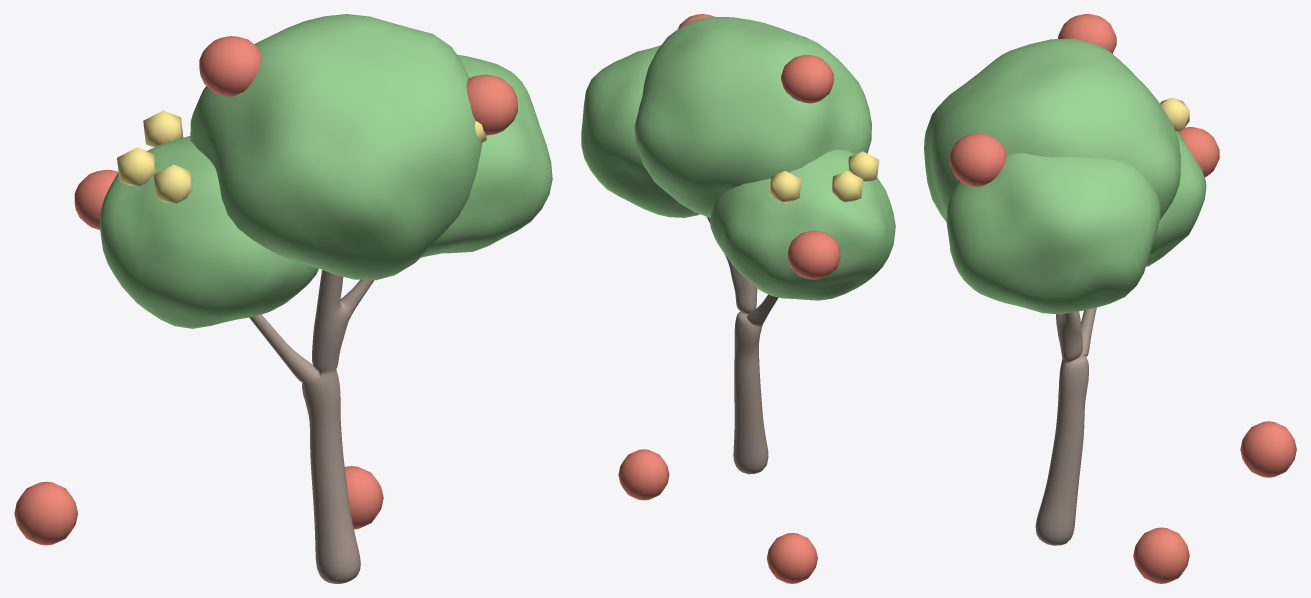
Rendered from tree_sapling_0.glb.
The picture shows the model from 3 angles, left to right: view 1: azimuth 30°, elevation 25°; view 2: azimuth 150°, elevation 25°; view 3: azimuth 270°, elevation 25°; orthographic projection. The views are drawn at different scales.
Visible parts, largest first — view 1: leaf_0, leaf_2, trunk, leaf_1, fallen, blossom, fruit_0, fruit_1, fruit_2; view 2: leaf_0, leaf_2, leaf_1, trunk, fallen, blossom, fruit_2, fruit_0; view 3: leaf_1, leaf_0, trunk, fallen, leaf_2, fruit_1, fruit_0, fruit_2, blossom.
Boxes of the visible parts, x1=… form: leaf_0: x1=190, y1=14, x2=482, y2=280; leaf_2: x1=100, y1=136, x2=318, y2=328; trunk: x1=249, y1=270, x2=374, y2=583; leaf_1: x1=421, y1=54, x2=552, y2=257; fallen: x1=14, y1=466, x2=383, y2=545; blossom: x1=117, y1=110, x2=486, y2=203; fruit_0: x1=199, y1=36, x2=261, y2=96; fruit_1: x1=466, y1=74, x2=517, y2=135; fruit_2: x1=74, y1=169, x2=118, y2=229; leaf_0: x1=634, y1=16, x2=871, y2=217; leaf_2: x1=710, y1=149, x2=895, y2=300; leaf_1: x1=581, y1=45, x2=699, y2=217; trunk: x1=707, y1=217, x2=778, y2=474; fallen: x1=618, y1=449, x2=817, y2=583; blossom: x1=769, y1=151, x2=879, y2=203; fruit_2: x1=788, y1=230, x2=840, y2=279; fruit_0: x1=781, y1=55, x2=833, y2=103; leaf_1: x1=946, y1=153, x2=1160, y2=314; leaf_0: x1=924, y1=38, x2=1180, y2=221; trunk: x1=1035, y1=307, x2=1096, y2=545; fallen: x1=1133, y1=421, x2=1296, y2=583; leaf_2: x1=1146, y1=132, x2=1206, y2=266; fruit_1: x1=949, y1=133, x2=1006, y2=186; fruit_0: x1=1058, y1=14, x2=1116, y2=53; fruit_2: x1=1179, y1=127, x2=1219, y2=177; blossom: x1=1160, y1=97, x2=1189, y2=132.
Bounding box in the file's own units: 1.48 × 2.02 × 1.38.
